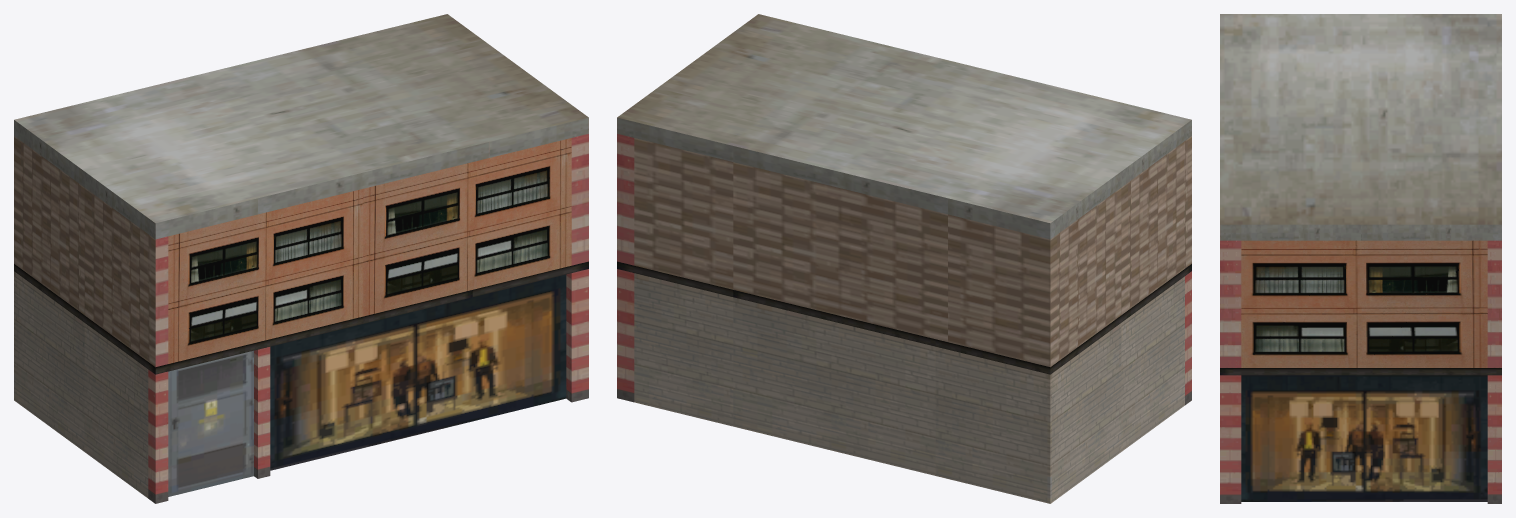
The model's file is house34_4.fbx.
3 renders of one model, left to right at view 1: azimuth 30°, elevation 25°; view 2: azimuth 150°, elevation 25°; view 3: azimuth 270°, elevation 25°, orthographic.
Parts seen in each view (by area): view 1: house34_4; view 2: house34_4; view 3: house34_4.
Part boxes in pixels (bbox=[...]): house34_4: bbox=[14, 14, 588, 503]; house34_4: bbox=[617, 14, 1191, 503]; house34_4: bbox=[1220, 14, 1501, 503].
Size of the model in its own units: 15.92 by 9.85 by 9.
